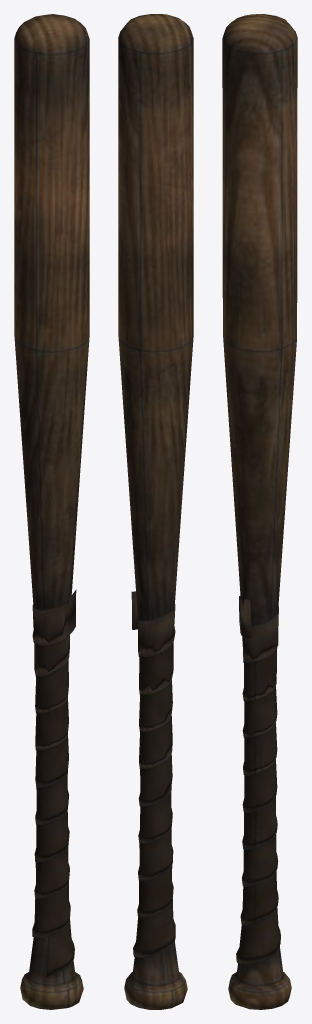
File: bat.glb
The picture shows the model from 3 angles, left to right: view 1: azimuth 30°, elevation 25°; view 2: azimuth 210°, elevation 25°; view 3: azimuth 270°, elevation 25°; orthographic projection.
Visible parts, largest first — view 1: baseball_bat; view 2: baseball_bat; view 3: baseball_bat.
Part boxes in pixels (x1=…): baseball_bat: x1=14, y1=14, x2=89, y2=1009; baseball_bat: x1=118, y1=14, x2=193, y2=1009; baseball_bat: x1=222, y1=14, x2=297, y2=1009.
Bounding box in the file's own units: 0.0627 × 0.9132 × 0.0635.
1 material, 1 textured.
